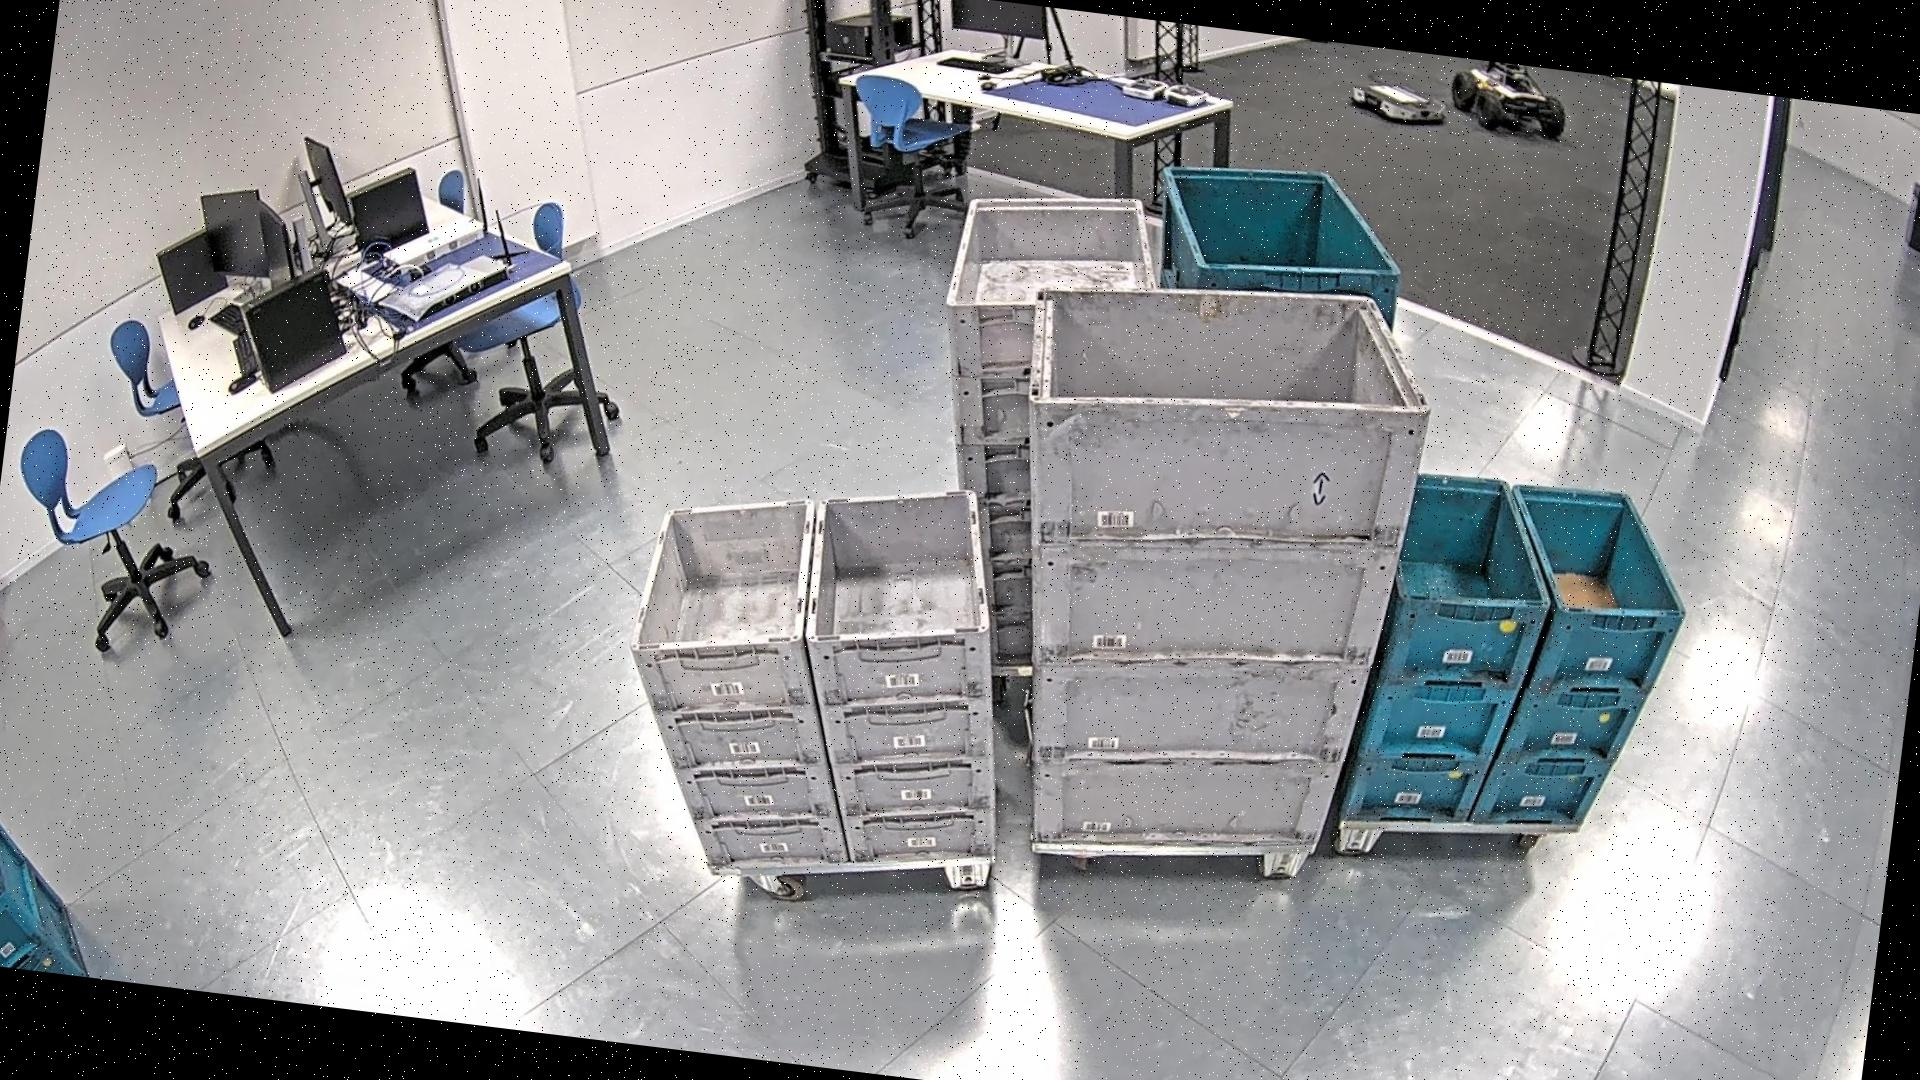Box3G: (895, 171, 1178, 687)
Box4G: (967, 252, 1448, 894)
Box8G: (595, 446, 1042, 911)
BoxB4: (1089, 144, 1418, 742)
BoxB8: (1313, 452, 1705, 865)
